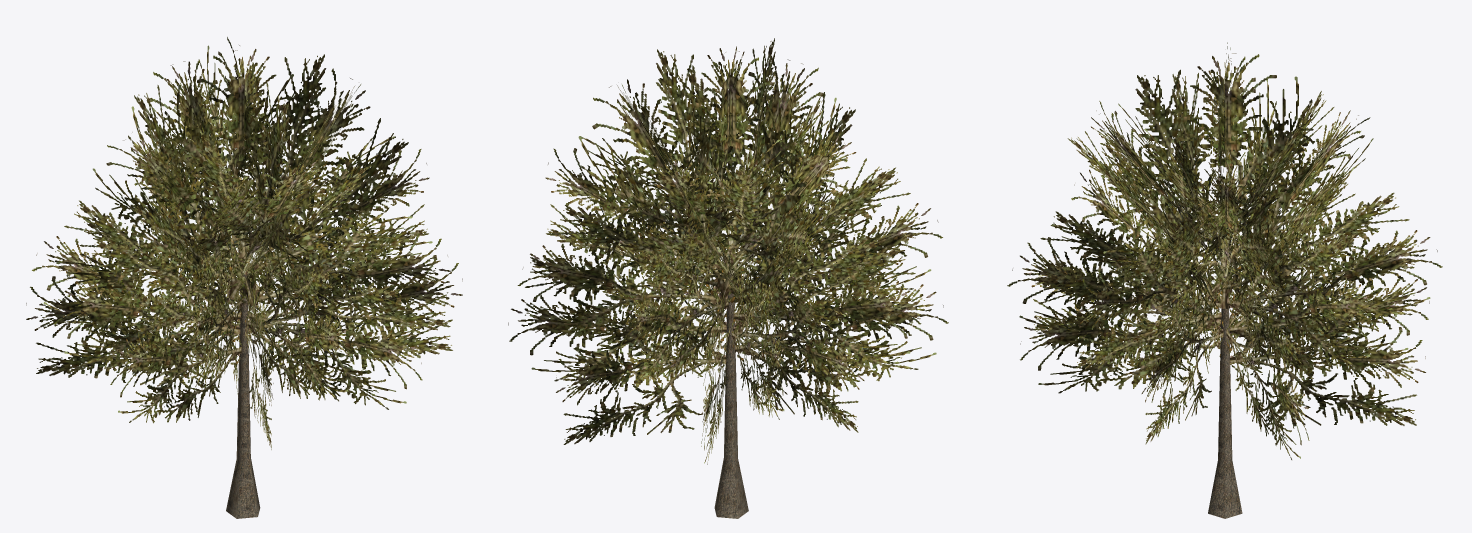
3 renders of one model, left to right at view 1: azimuth 30°, elevation 25°; view 2: azimuth 150°, elevation 25°; view 3: azimuth 270°, elevation 25°, orthographic.
Visible parts, largest first — view 1: _gt02a; view 2: _gt02a; view 3: _gt02a.
Part boxes in pixels (bbox=[...]): _gt02a: bbox=[26, 37, 462, 518]; _gt02a: bbox=[508, 38, 948, 518]; _gt02a: bbox=[1007, 42, 1442, 518].
Size of the model in its own units: 10.78 by 11.7 by 10.78.
2 materials, 2 textured.
